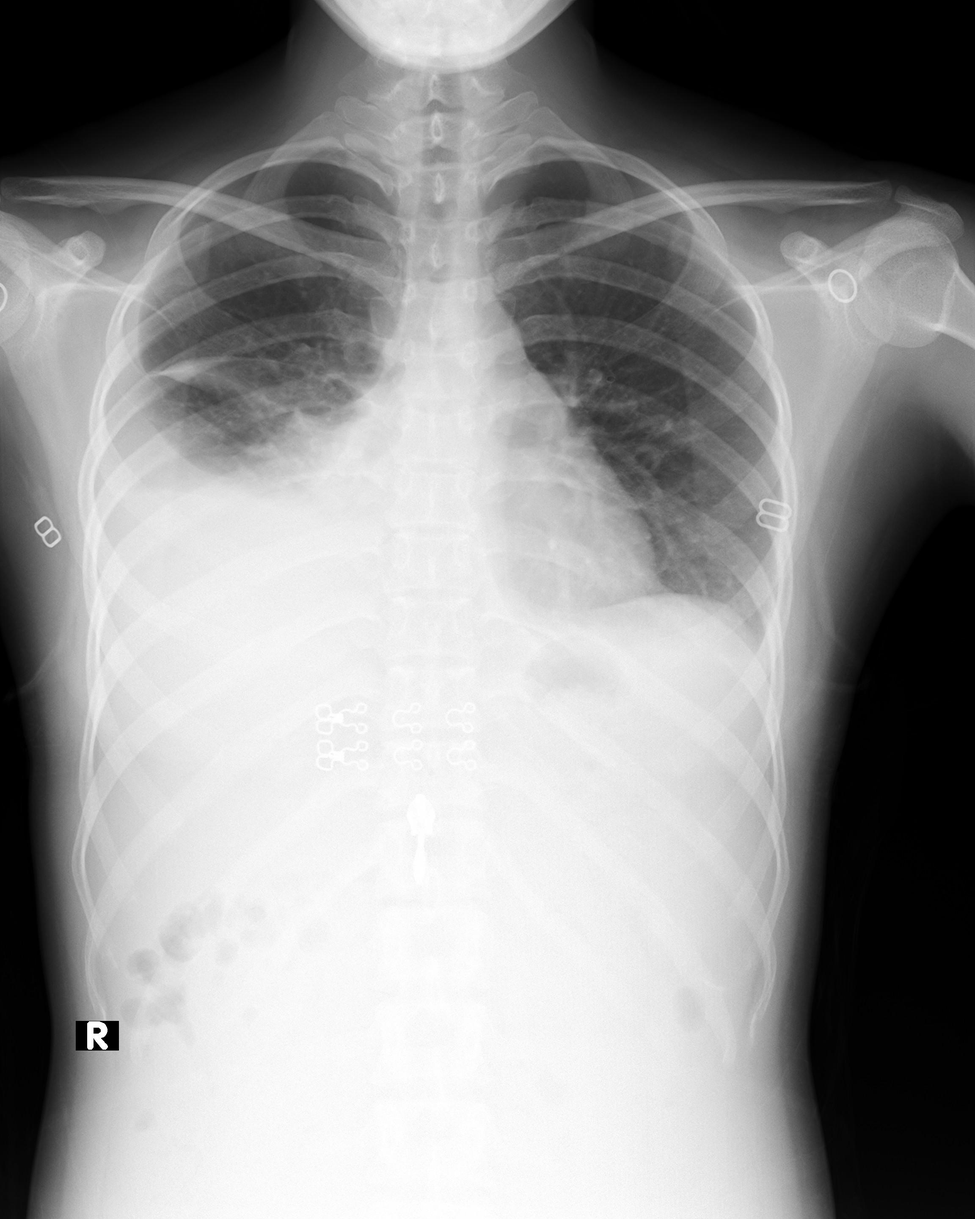Pulmonary fibrosis: (152, 352, 339, 426)
